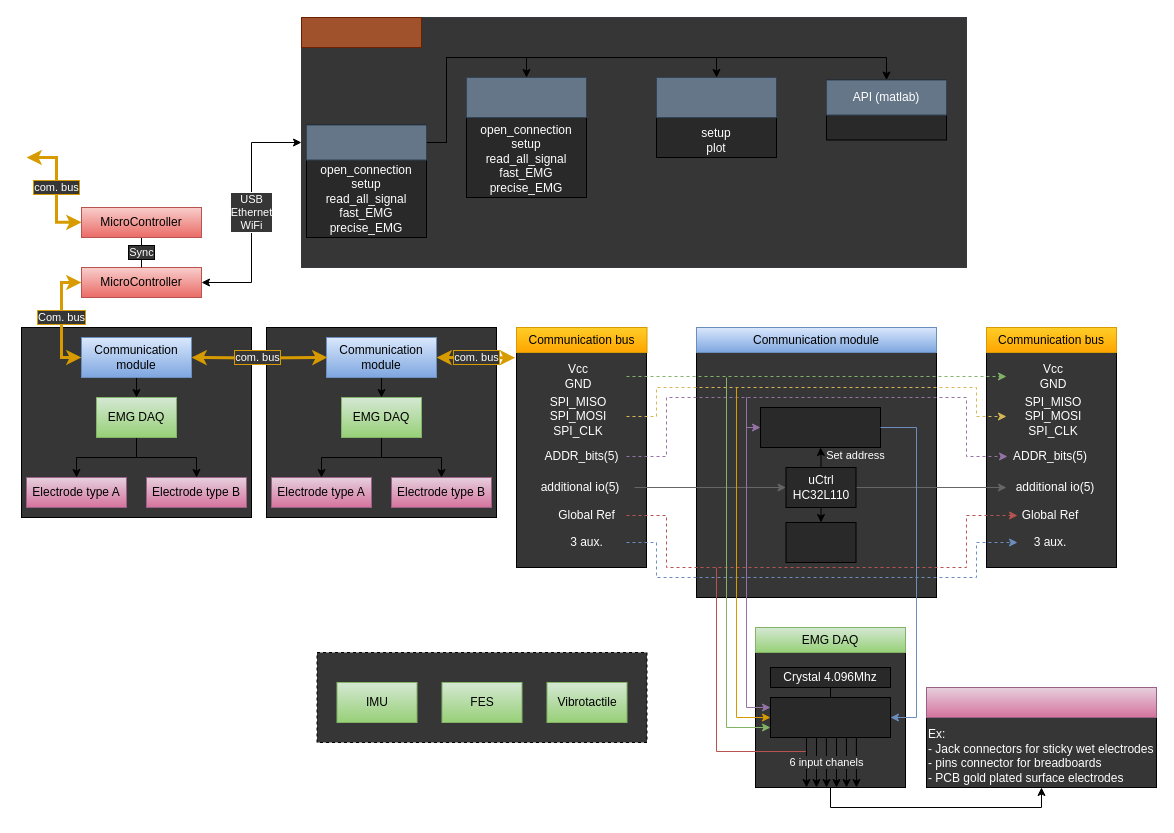
Image size: 1174x833. Some labels were removed from this diagram. Each missing label, with the box of its shape:
API (python): (466, 76, 586, 118)
Driver (C++): (306, 124, 426, 160)
Electrodes: (926, 686, 1156, 718)
EMG ADC ADS1293: (770, 696, 890, 738)
GUI (C++): (656, 76, 776, 118)
identity comp. SN54HC688: (760, 406, 880, 448)
PC: (300, 16, 422, 48)
Possible additional modules: (316, 652, 647, 742)
RGB LED NeoPixel: (785, 522, 856, 562)
